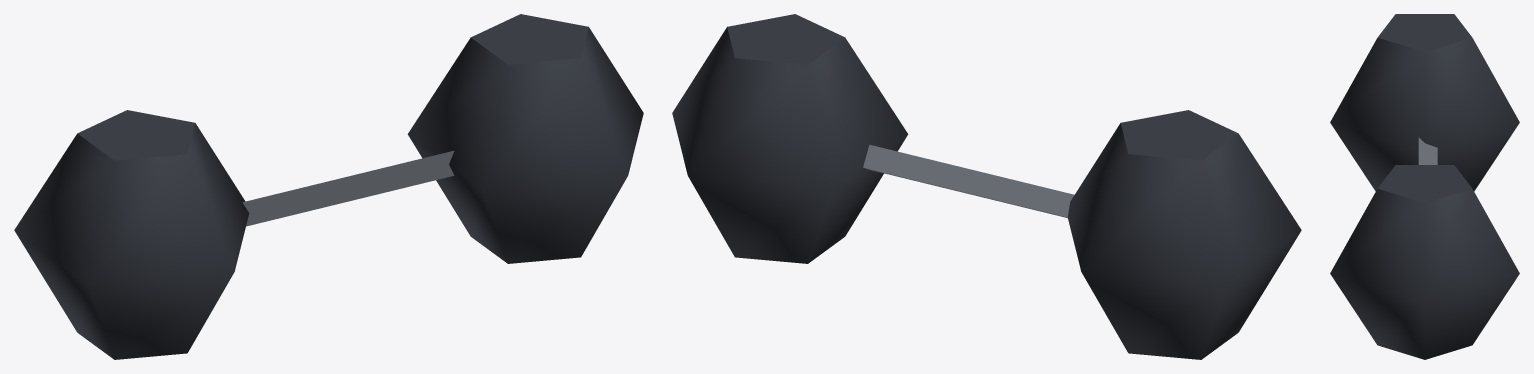
The model's file is SM_Prop_ChainShot_LQ.glb.
The picture shows the model from 3 angles, left to right: view 1: azimuth 30°, elevation 25°; view 2: azimuth 150°, elevation 25°; view 3: azimuth 270°, elevation 25°; orthographic projection. The views are drawn at different scales.
Parts seen in each view (by area): view 1: SM_Prop_ChainShot_LQ; view 2: SM_Prop_ChainShot_LQ; view 3: SM_Prop_ChainShot_LQ.
Part boxes in pixels (x1,y1,x2,y2): SM_Prop_ChainShot_LQ: [14, 14, 643, 359]; SM_Prop_ChainShot_LQ: [672, 14, 1301, 359]; SM_Prop_ChainShot_LQ: [1330, 14, 1519, 359].
Bounding box in the file's own units: 1.02 × 0.3291 × 0.3614.
Materials: 1 (1 with a texture image).
